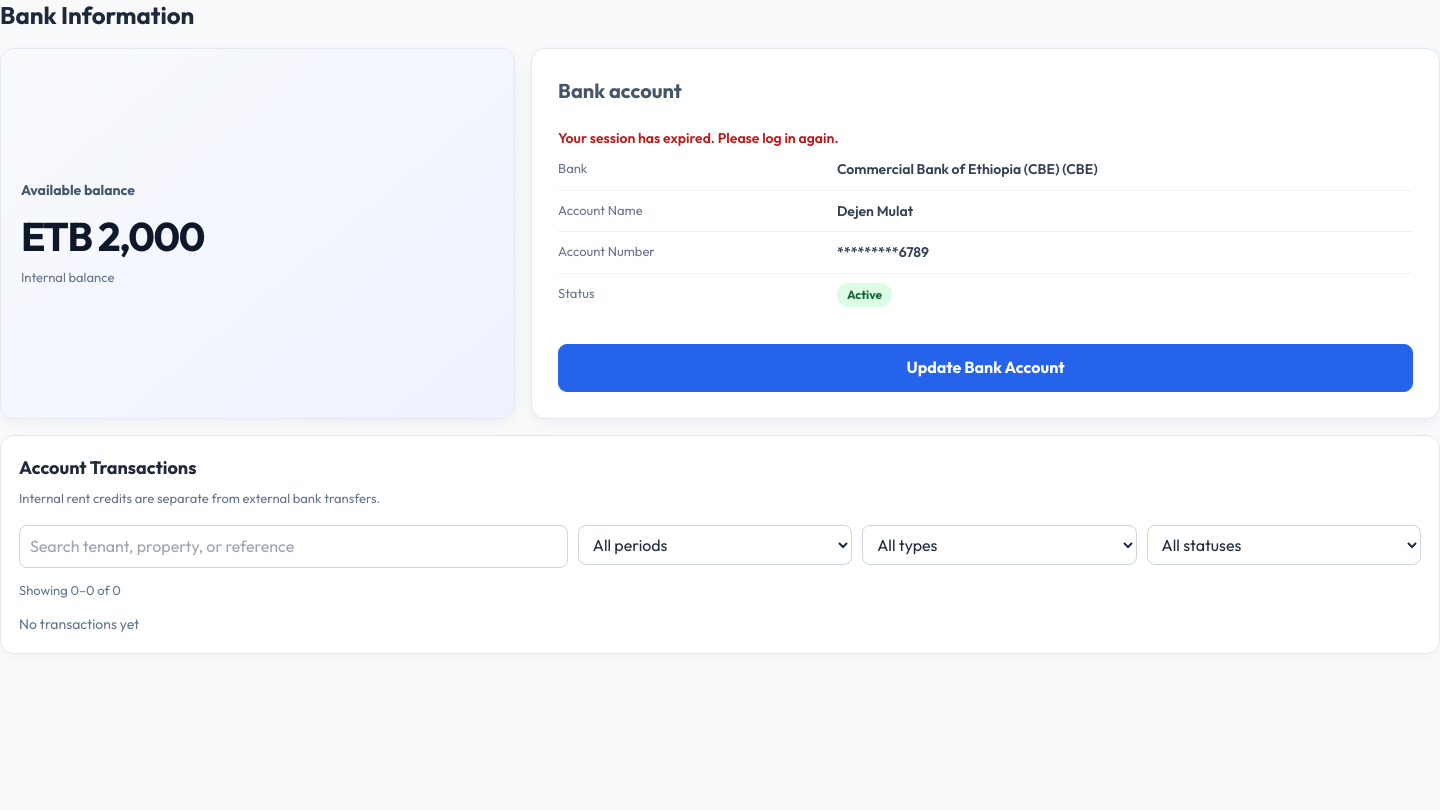
Scenario: shows an actionable message when the bank API returns HTTP 401
The image size is (1440, 810).
Click the button "Update Bank Account" at (986, 368), box [558, 344, 1413, 392]
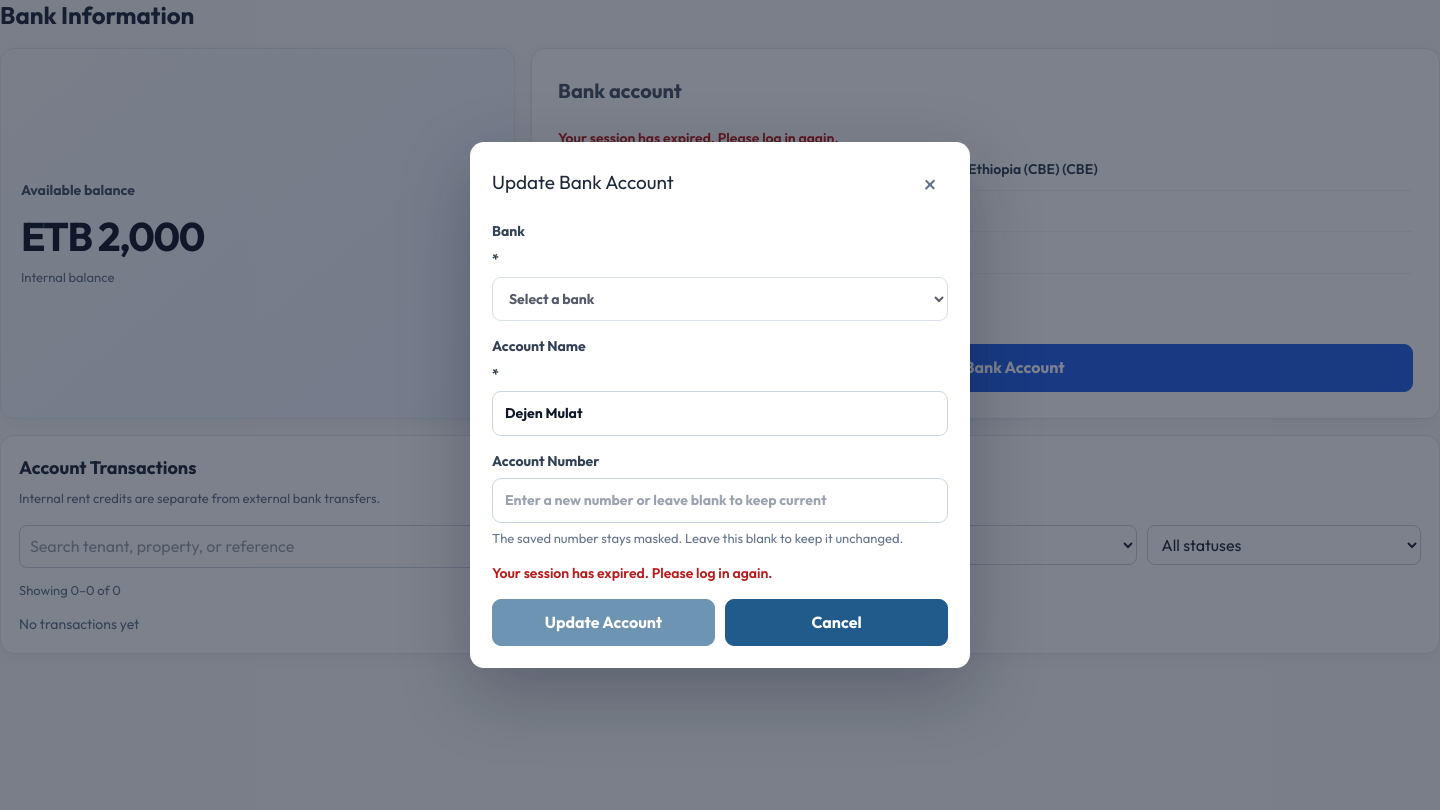
expect the message reads "Your session has expired. Please log in again.": met, box [492, 564, 772, 582]
expect the button "Update Account" is disabled: met, box [492, 598, 715, 646]
